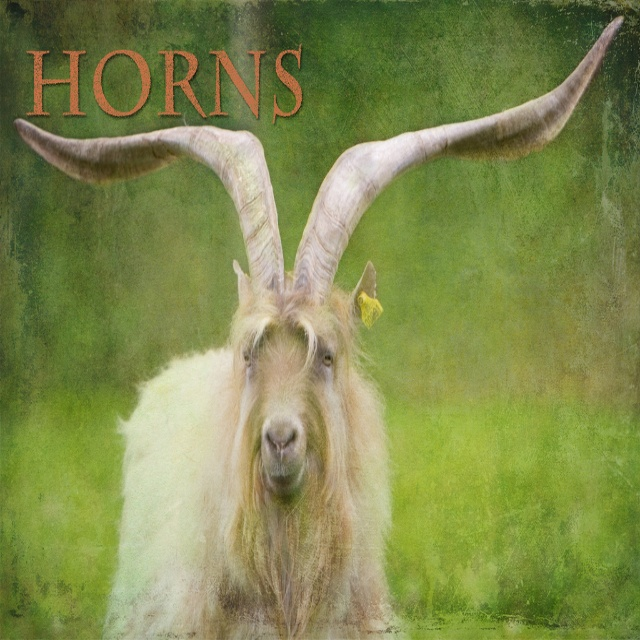Goat: (14, 16, 622, 637)
